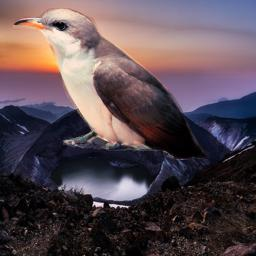Cuckoo: (13, 8, 209, 160)
